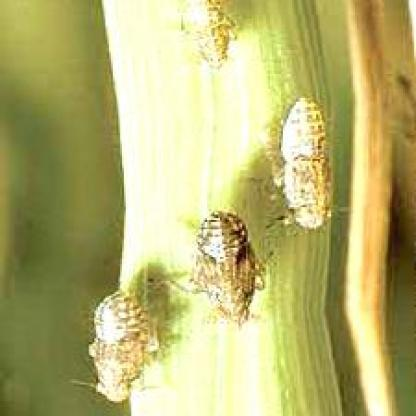brown-planthopper: (273, 93, 336, 233), (193, 209, 258, 320), (85, 290, 150, 401), (180, 0, 233, 67)
